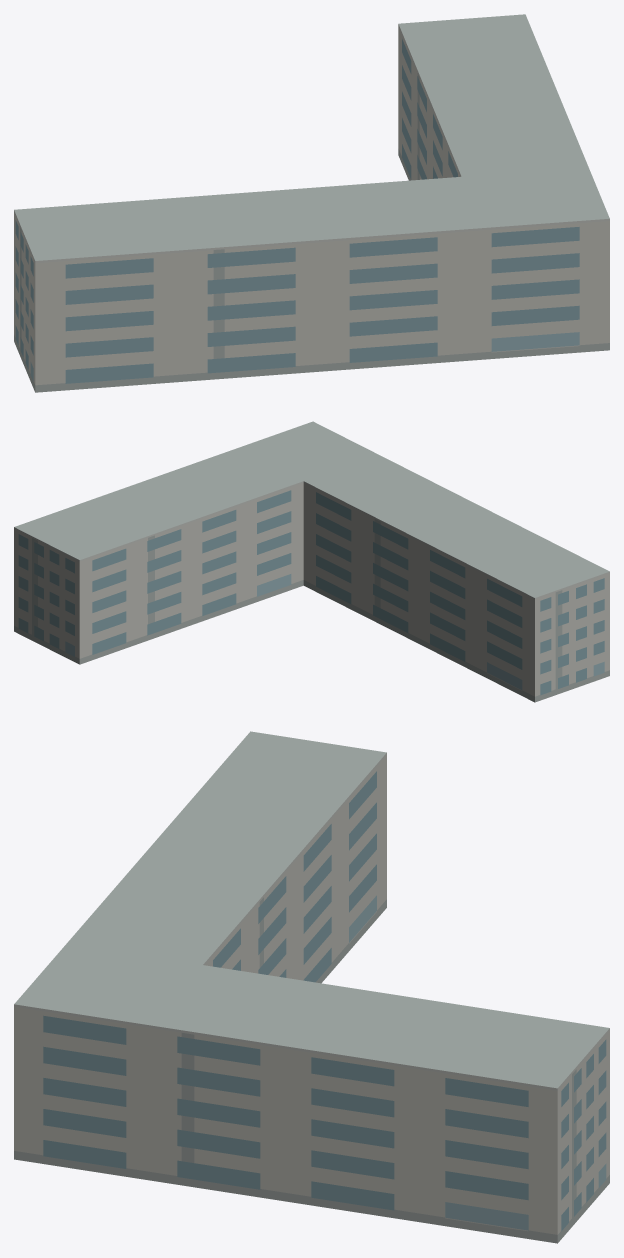
Rendered from residential-8aa3fe49-a379-4d7d-991c-2aa327153f91.glb.
The picture shows the model from 3 angles, top to bottom: view 1: azimuth 30°, elevation 25°; view 2: azimuth 150°, elevation 25°; view 3: azimuth 270°, elevation 25°; orthographic projection. The views are drawn at different scales.
Visible parts, largest first — view 1: residential-8aa3fe49-a379-4d7d-991c-2aa327153f91.tmp; view 2: residential-8aa3fe49-a379-4d7d-991c-2aa327153f91.tmp; view 3: residential-8aa3fe49-a379-4d7d-991c-2aa327153f91.tmp.
Boxes of the visible parts, x1,y1,x2,y2 form: residential-8aa3fe49-a379-4d7d-991c-2aa327153f91.tmp: [14, 14, 609, 392]; residential-8aa3fe49-a379-4d7d-991c-2aa327153f91.tmp: [14, 421, 609, 702]; residential-8aa3fe49-a379-4d7d-991c-2aa327153f91.tmp: [14, 731, 609, 1243].
Size of the model in its own units: 75.25 by 15.25 by 53.09.
